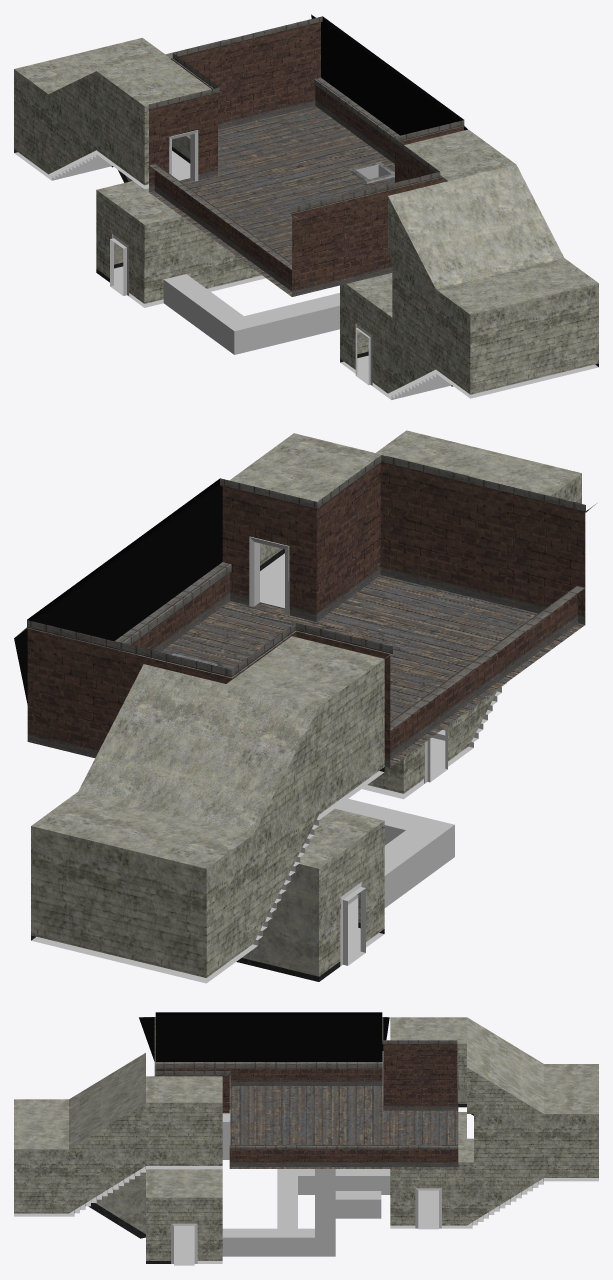
Rendered from Roof_Area.FBX.
The picture shows the model from 3 angles, top to bottom: view 1: azimuth 30°, elevation 25°; view 2: azimuth 150°, elevation 25°; view 3: azimuth 270°, elevation 25°; orthographic projection. The views are drawn at different scales.
Parts seen in each view (by area): view 1: Roof_Area; view 2: Roof_Area; view 3: Roof_Area.
Part boxes in pixels (left/top/right/bottom): Roof_Area: left=14, top=14, right=598, bottom=399; Roof_Area: left=14, top=430, right=596, bottom=983; Roof_Area: left=14, top=1012, right=598, bottom=1265.
Size of what is drawn, in the model's own units: 1181 by 1039 by 3299.
